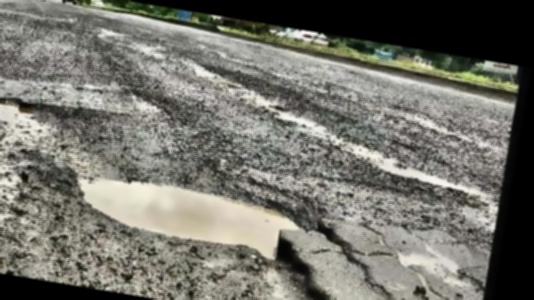pothole: (66, 162, 351, 274)
